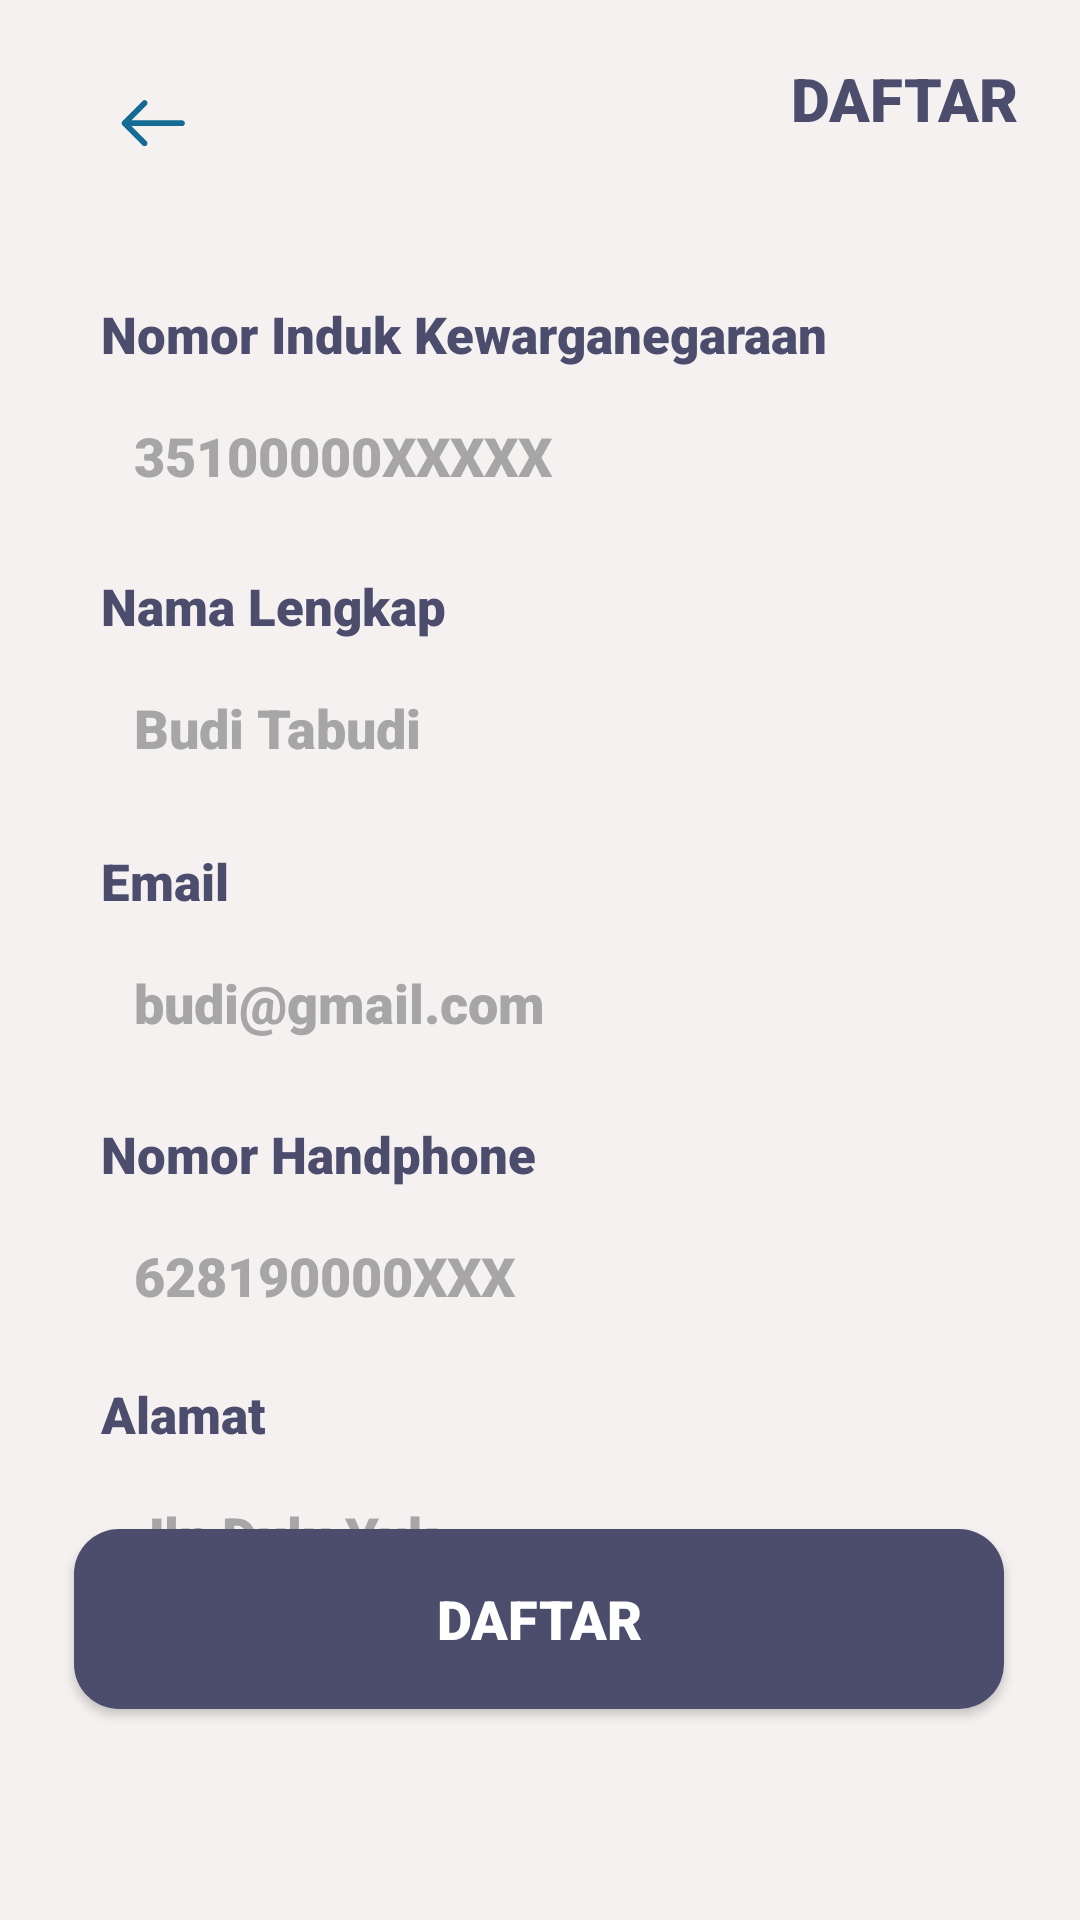

Icon bounding boxes for this 1080 × 1920 phone screenshot, format (x1,y1,x2,y2):
back arrow: (121,100,185,146)
